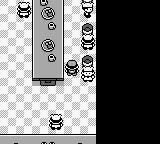leer: (82, 24, 94, 36), (82, 55, 93, 66)
main: (66, 61, 79, 76)
no-caminable: (95, 1, 159, 143), (32, 0, 64, 85), (0, 134, 96, 143)
npc: (49, 114, 63, 130), (17, 2, 31, 18), (81, 2, 95, 18), (81, 35, 95, 50), (81, 67, 95, 82)
